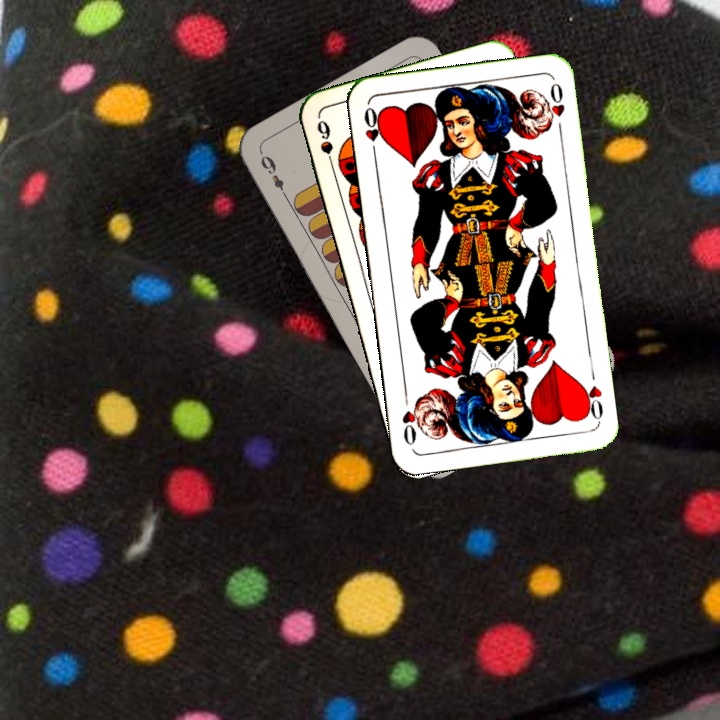E9: (256, 151, 292, 203)
HO: (360, 102, 386, 161), (577, 379, 606, 425)
S9: (313, 115, 338, 174)
